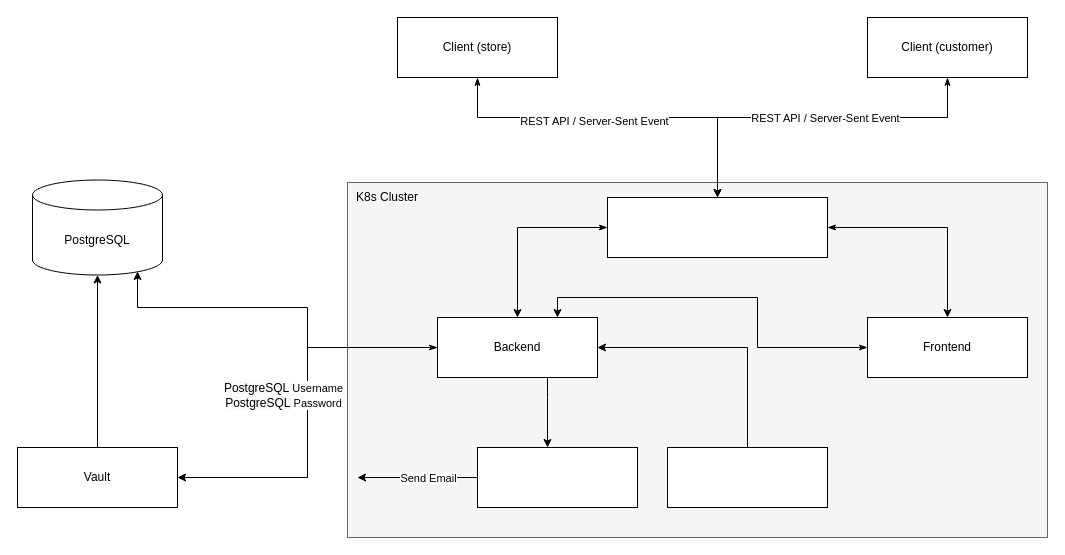
The diagram is 1065 pixels wide and 555 high, and some of its shapes have lost their labels. The shapes that lost their labels are listed below. From the top down, each one's centre as x and y in pixels, then its label:
At [717,227]: "Ingress Controller / Load-Balancer".
At [557,477]: "gRPC".
At [747,477]: "CronJob".
